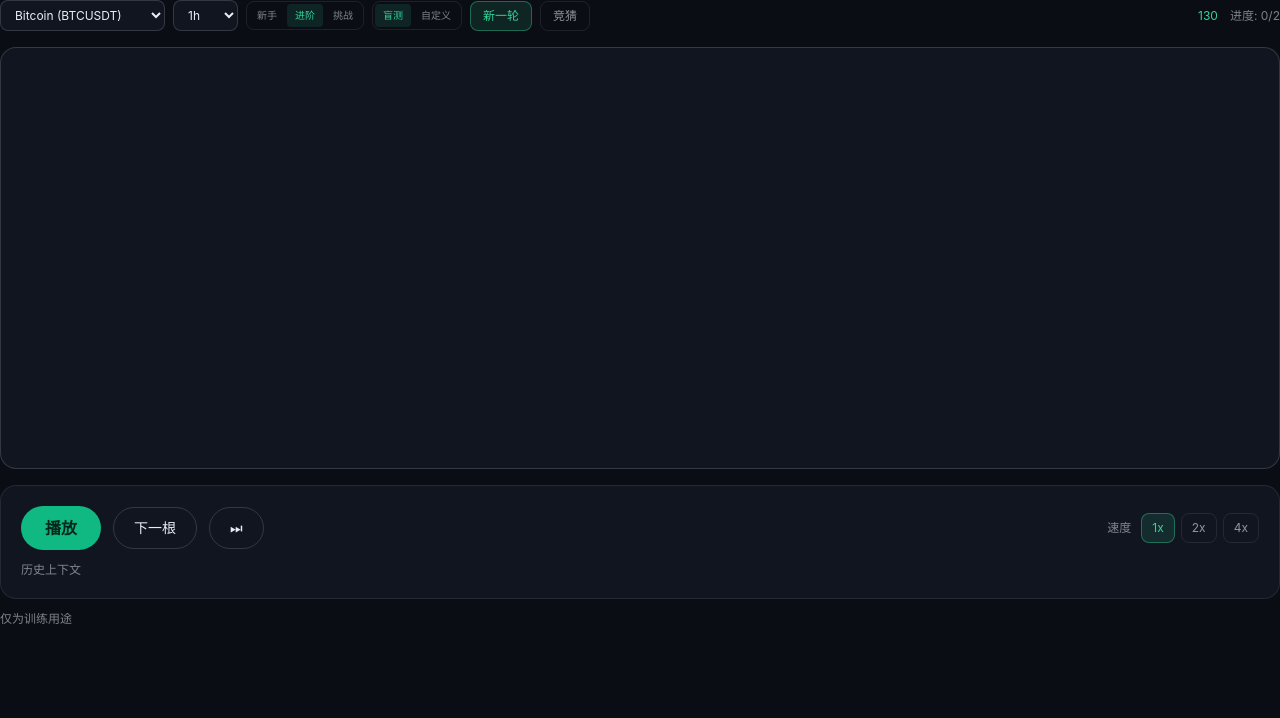
Scenario: ReplayTrainer 竞猜模式与战绩 › 新一轮会清空上一轮反馈并重置进度
This screenshot has width=1280, height=718.
Check: the text "130 进度: 0/2" is shown, box [1198, 8, 1279, 24]
Click the button "竞猜": point(565, 16) [540, 0, 590, 30]
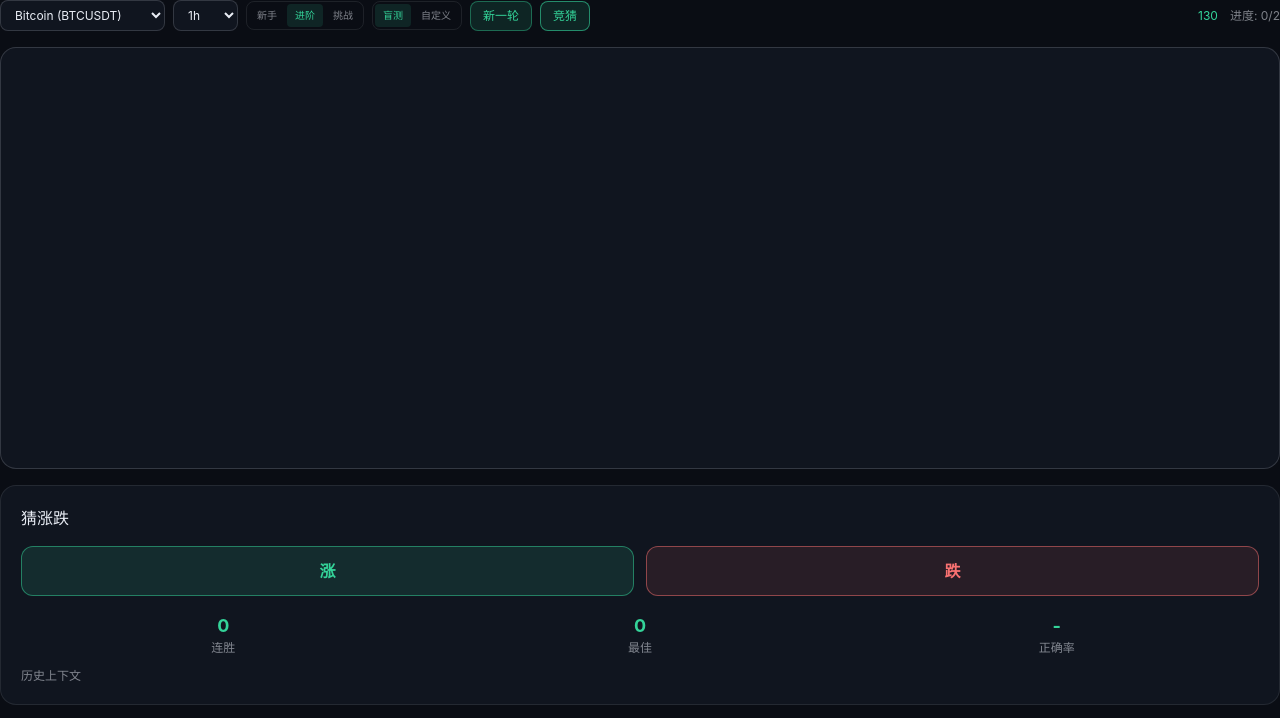
Click the button "涨": point(328, 571) [21, 546, 634, 596]
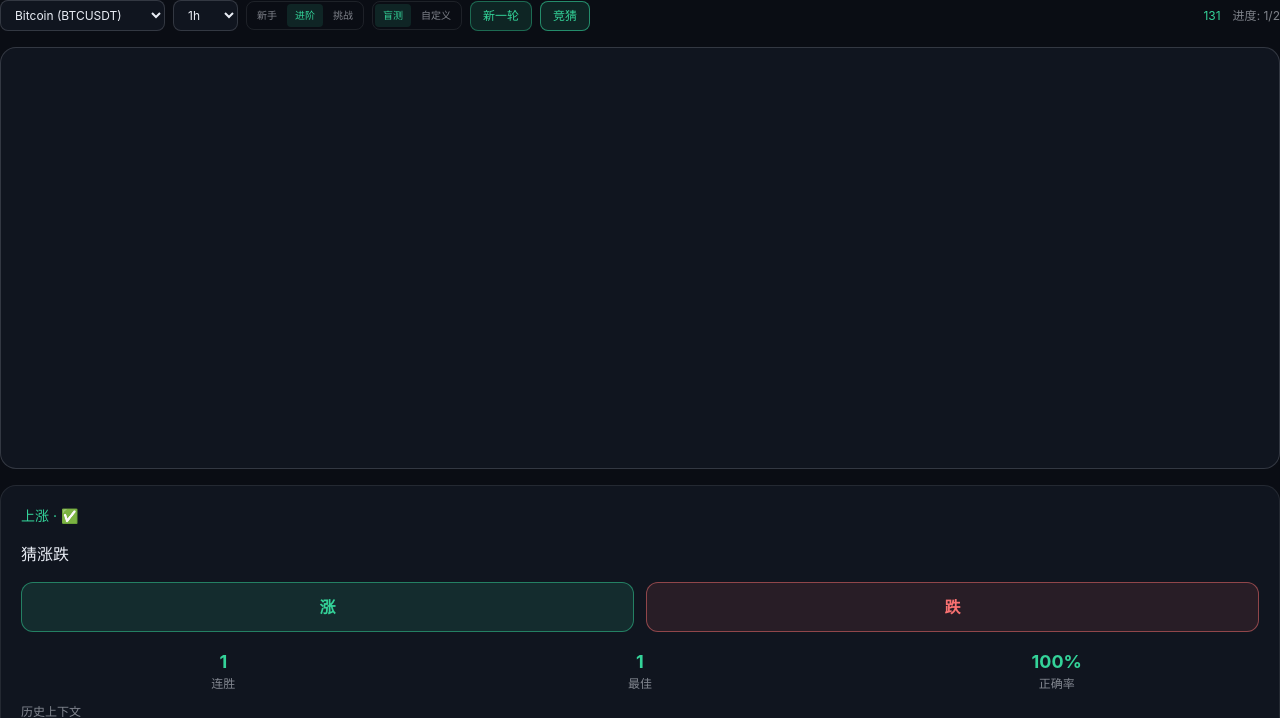
Check: the text "上涨 · ✅" is shown, box [21, 507, 78, 524]
Click the button "新一轮": point(501, 16) [470, 0, 532, 30]
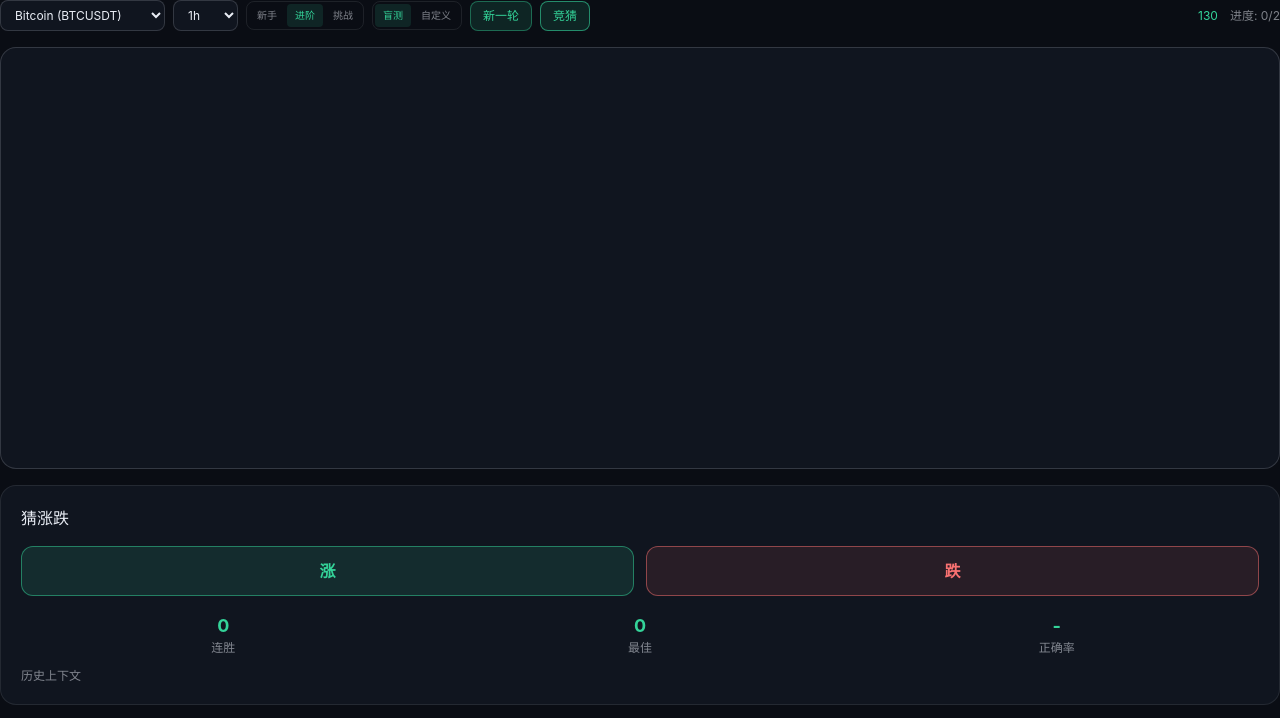
Check: the text "130 进度: 0/2" is shown, box [1198, 8, 1279, 24]
Check: the text "上涨 · ✅" is gone
